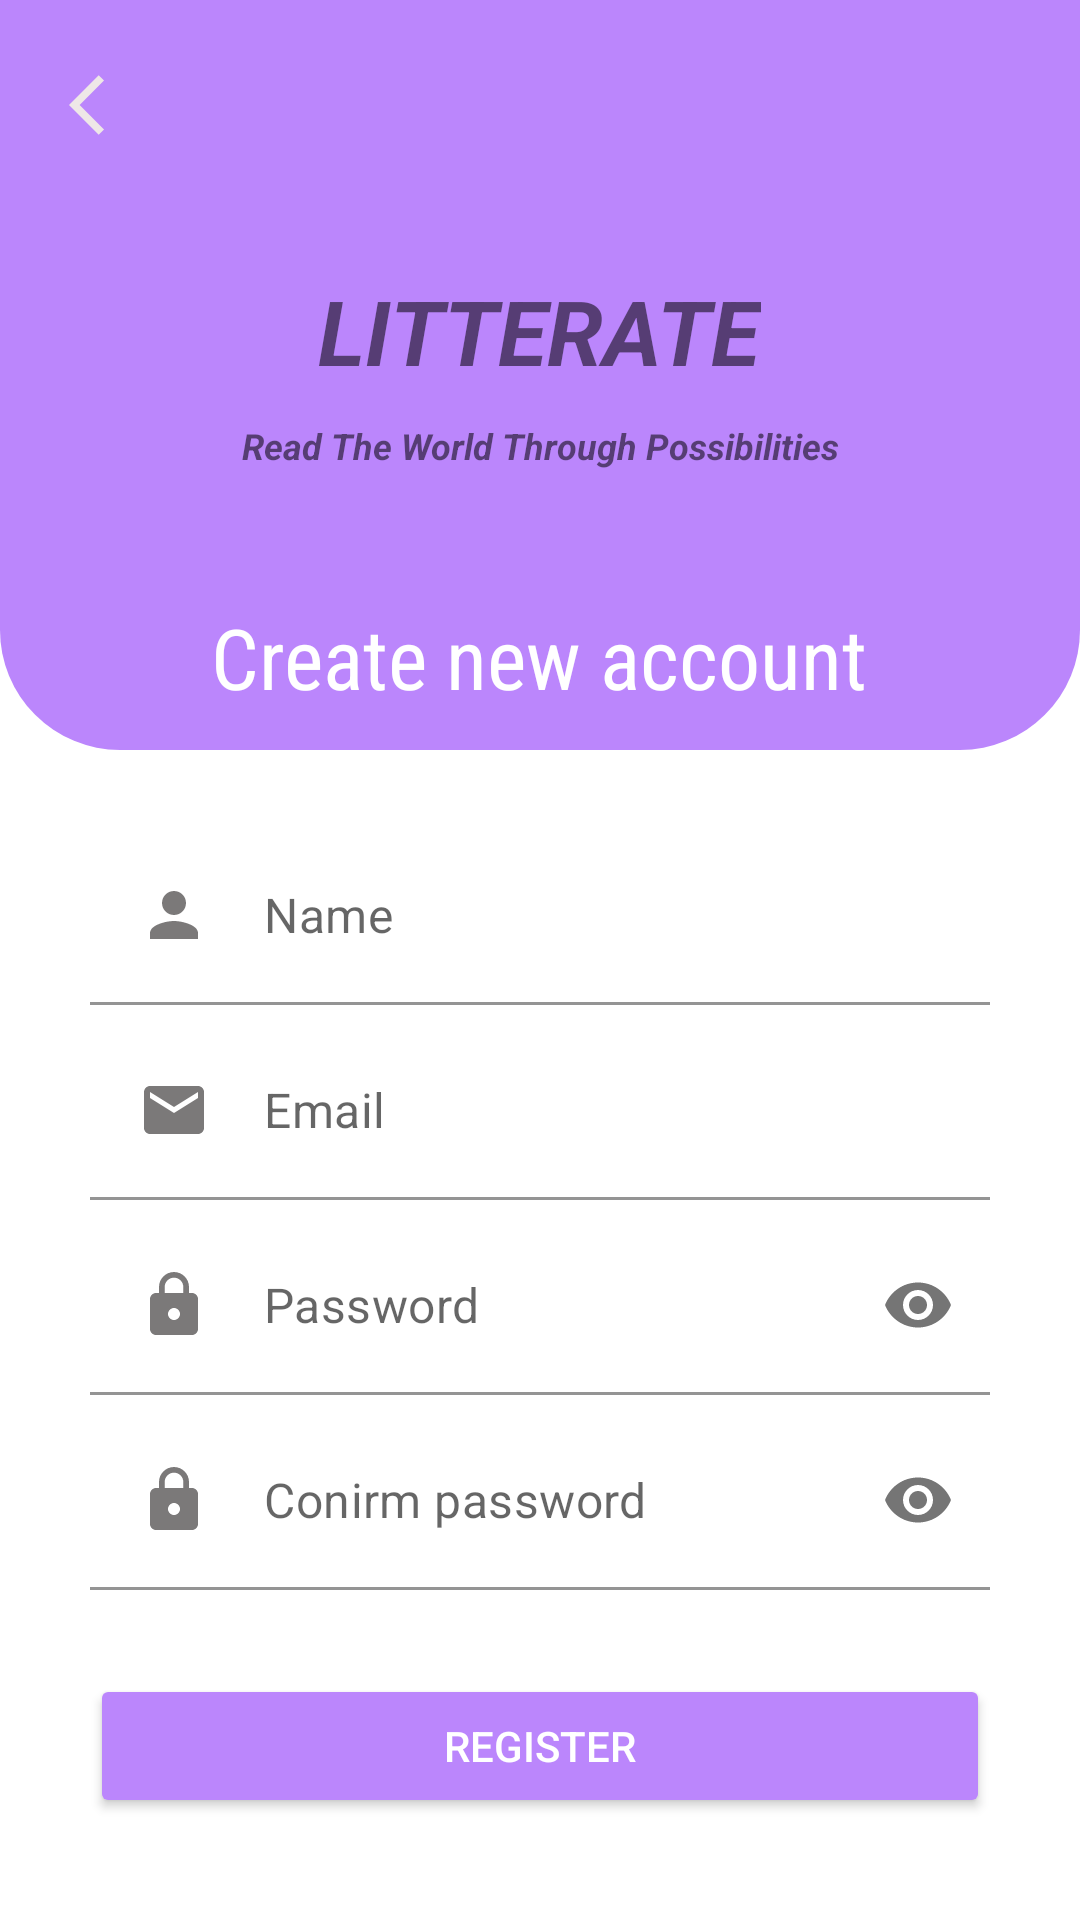

Named icons in this screenshot (1080px x 1920px) and their bounding boxes, (x1, y1, x2, y2):
back: (69, 75, 104, 135)
